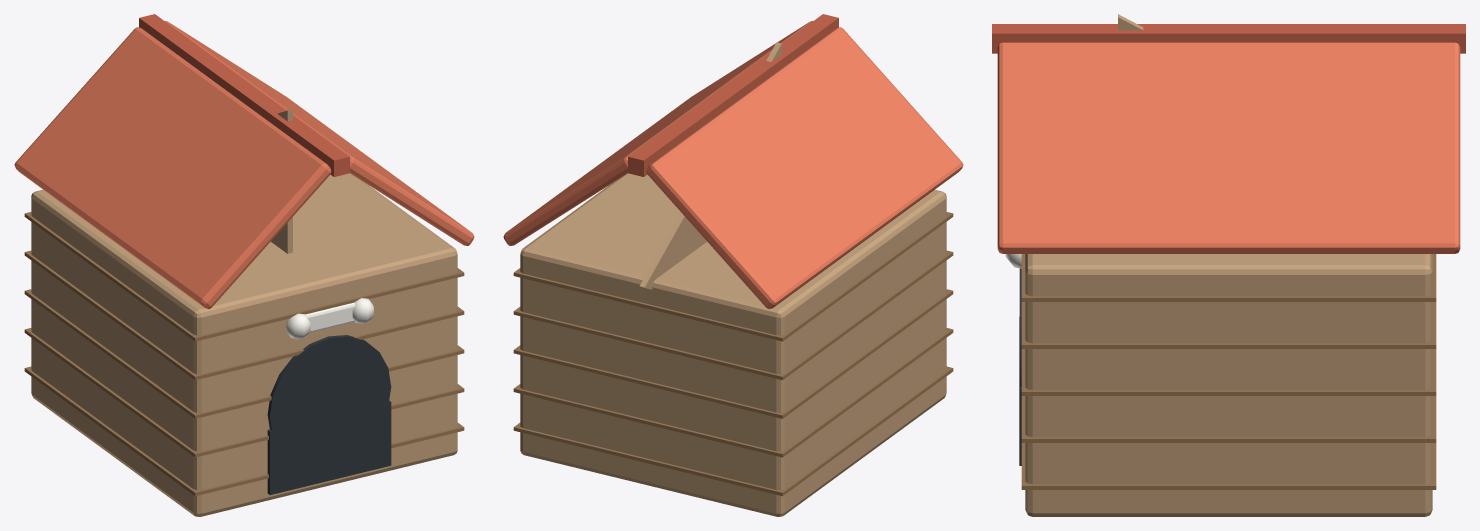
Rendered from t_doghouse.gltf.
3 renders of one model, left to right at view 1: azimuth 30°, elevation 25°; view 2: azimuth 150°, elevation 25°; view 3: azimuth 270°, elevation 25°, orthographic. The views are drawn at different scales.
Parts seen in each view (by area): view 1: t_doghouse; view 2: t_doghouse; view 3: t_doghouse.
Part boxes in pixels (bbox=[...]): t_doghouse: bbox=[14, 14, 474, 516]; t_doghouse: bbox=[503, 14, 963, 516]; t_doghouse: bbox=[992, 14, 1465, 516].
Size of the model in its own units: 1.03 by 1.27 by 1.28.
Materials: 1 (1 with a texture image).
